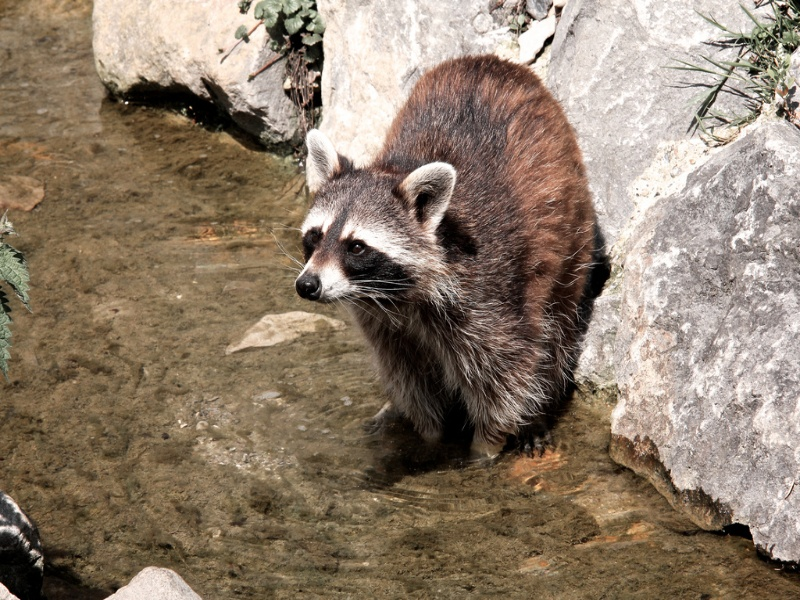raccoon: (287, 45, 631, 473)
